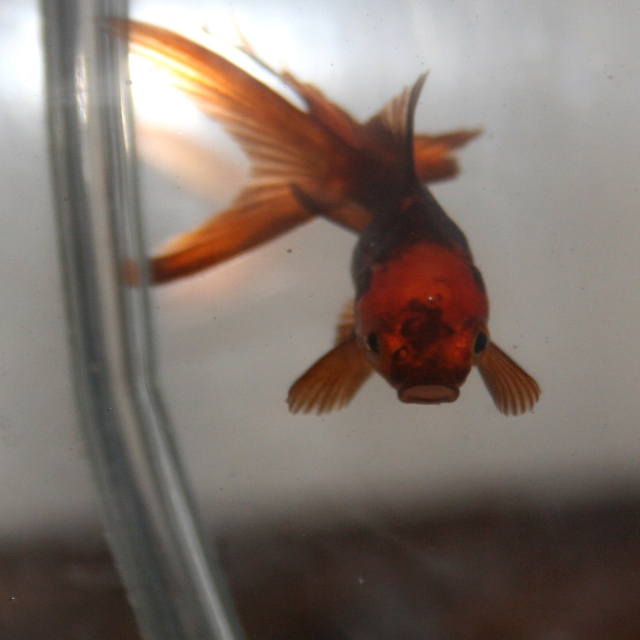Goldfish: (108, 14, 527, 442)
